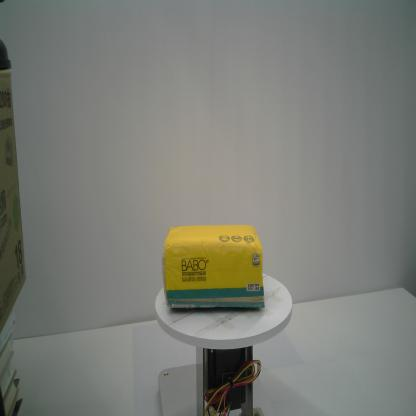Tissue: (161, 222, 266, 312)
